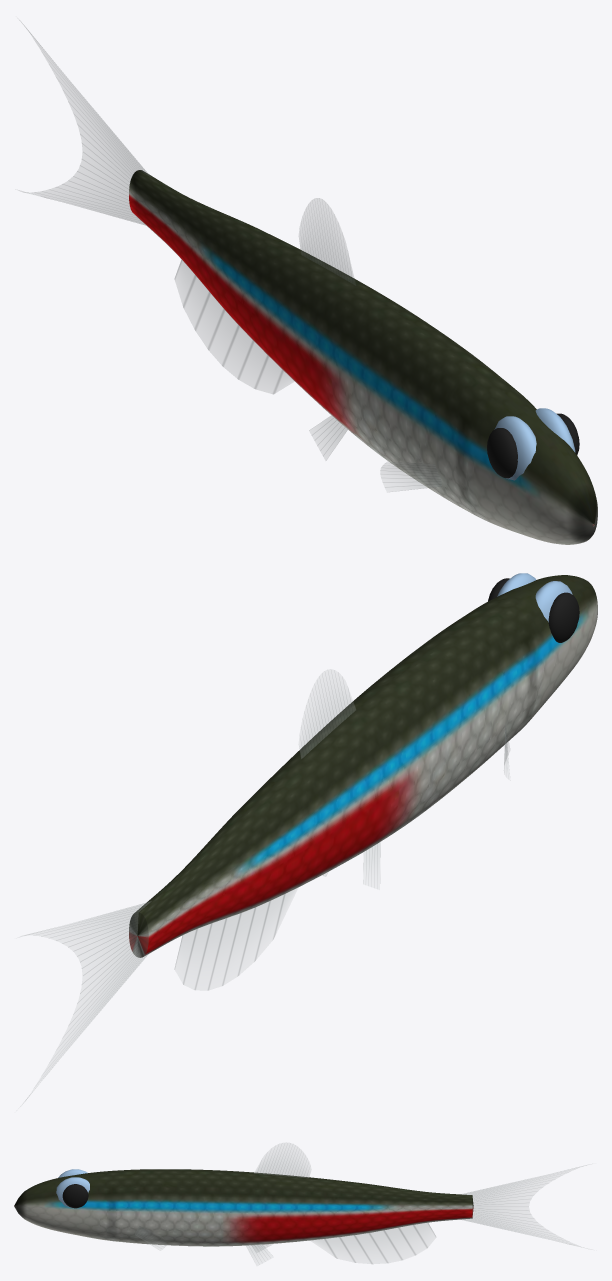
The model's file is neon_1.glb.
3 renders of one model, top to bottom at view 1: azimuth 30°, elevation 25°; view 2: azimuth 150°, elevation 25°; view 3: azimuth 270°, elevation 25°, orthographic. The views are drawn at different scales.
Visible parts, largest first — view 1: body, fins, iris, pupil; view 2: body, fins, pupil, iris; view 3: body, fins, iris, pupil.
Boxes of the visible parts, left/top/right/bottom form: body: left=129, top=170, right=597, bottom=544; fins: left=19, top=20, right=441, bottom=491; iris: left=494, top=408, right=575, bottom=480; pupil: left=487, top=413, right=579, bottom=478; body: left=129, top=575, right=597, bottom=957; fins: left=20, top=669, right=509, bottom=1106; pupil: left=488, top=578, right=579, bottom=642; iris: left=497, top=573, right=572, bottom=622; body: left=14, top=1169, right=473, bottom=1246; fins: left=135, top=1142, right=587, bottom=1265; iris: left=56, top=1169, right=89, bottom=1207; pupil: left=62, top=1184, right=88, bottom=1208.
Size of the model in its own units: 0.1259 by 0.2356 by 1.02.
4 materials, 2 textured.
